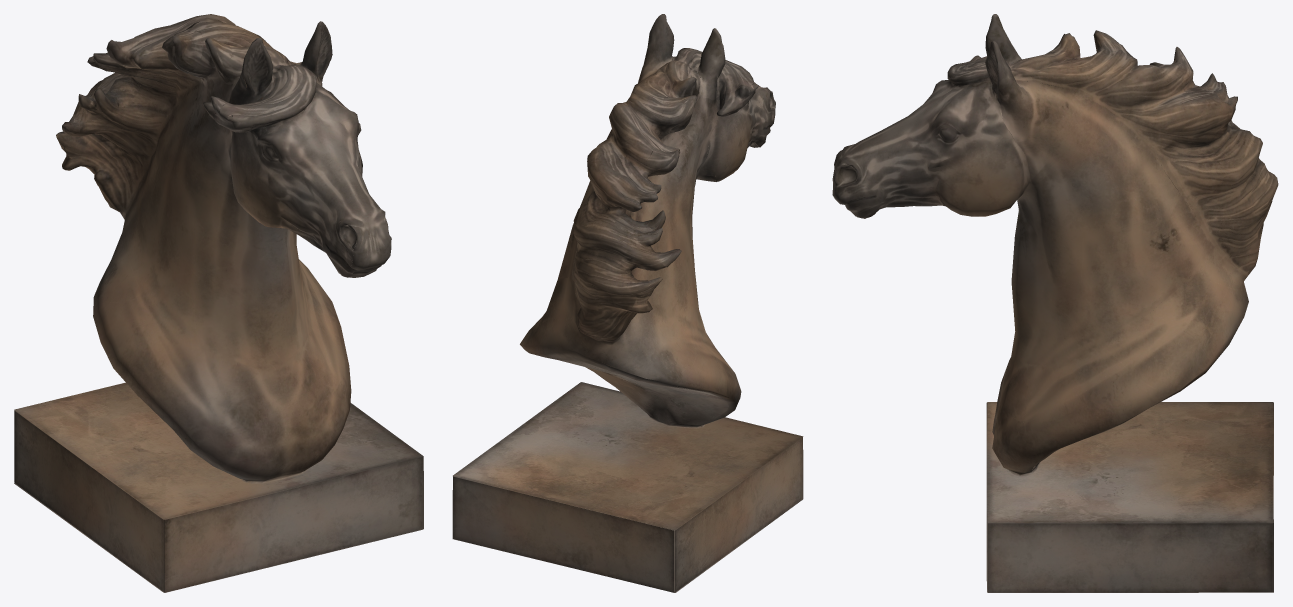
The model's file is horse_head.glb.
3 renders of one model, left to right at view 1: azimuth 30°, elevation 25°; view 2: azimuth 150°, elevation 25°; view 3: azimuth 270°, elevation 25°, orthographic. The views are drawn at different scales.
Parts seen in each view (by area): view 1: horse_head; view 2: horse_head; view 3: horse_head.
Part boxes in pixels (bbox=[...]): horse_head: bbox=[14, 14, 423, 592]; horse_head: bbox=[452, 14, 803, 592]; horse_head: bbox=[832, 14, 1278, 592].
Size of the model in its own units: 0.2153 by 0.4177 by 0.3341.
1 material, 1 textured.
